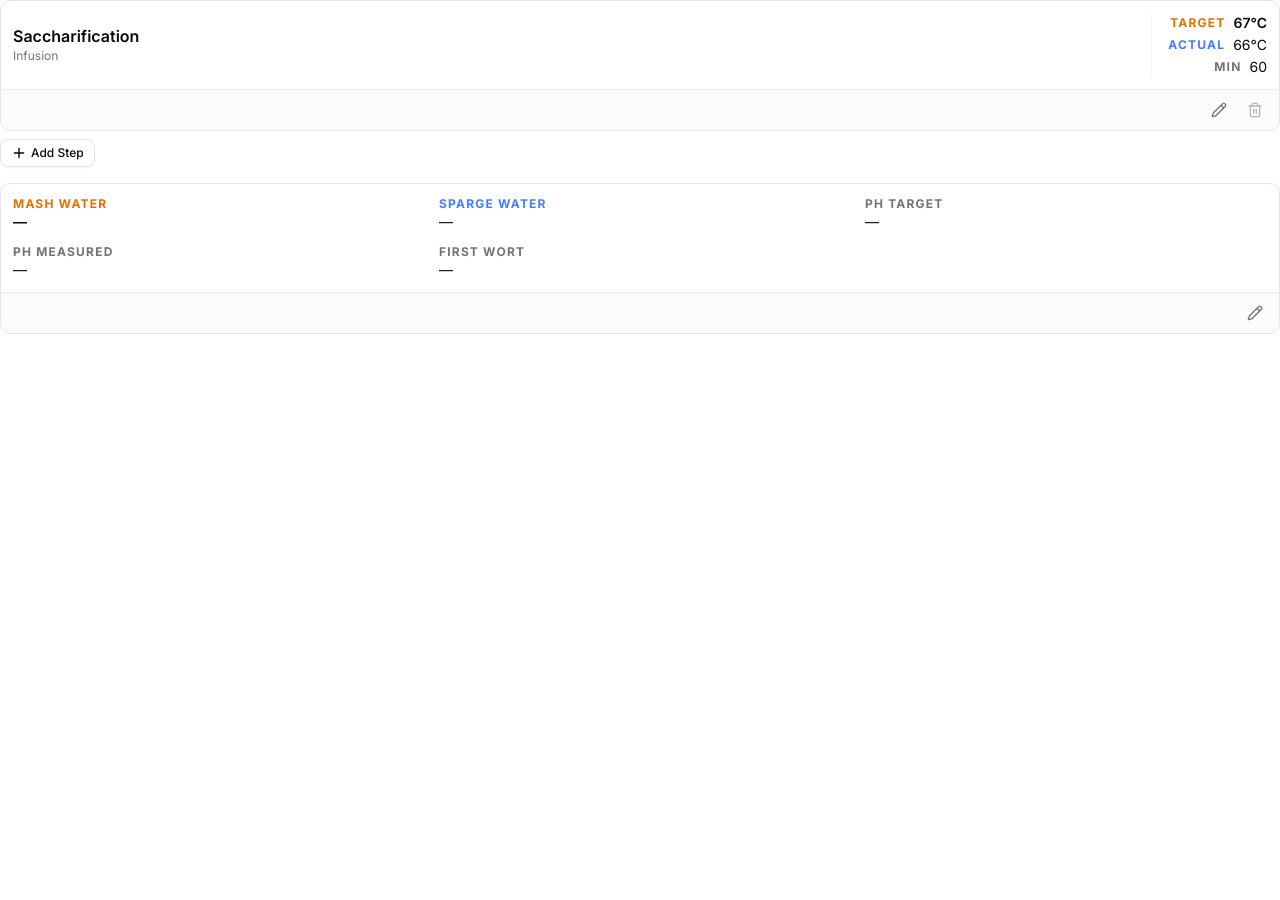
Test case: MashSection › add step flow › "Add Step" button opens the dialog with title "Add Step"
Click the button "Add Step" at (47, 153), box [0,139,95,167]
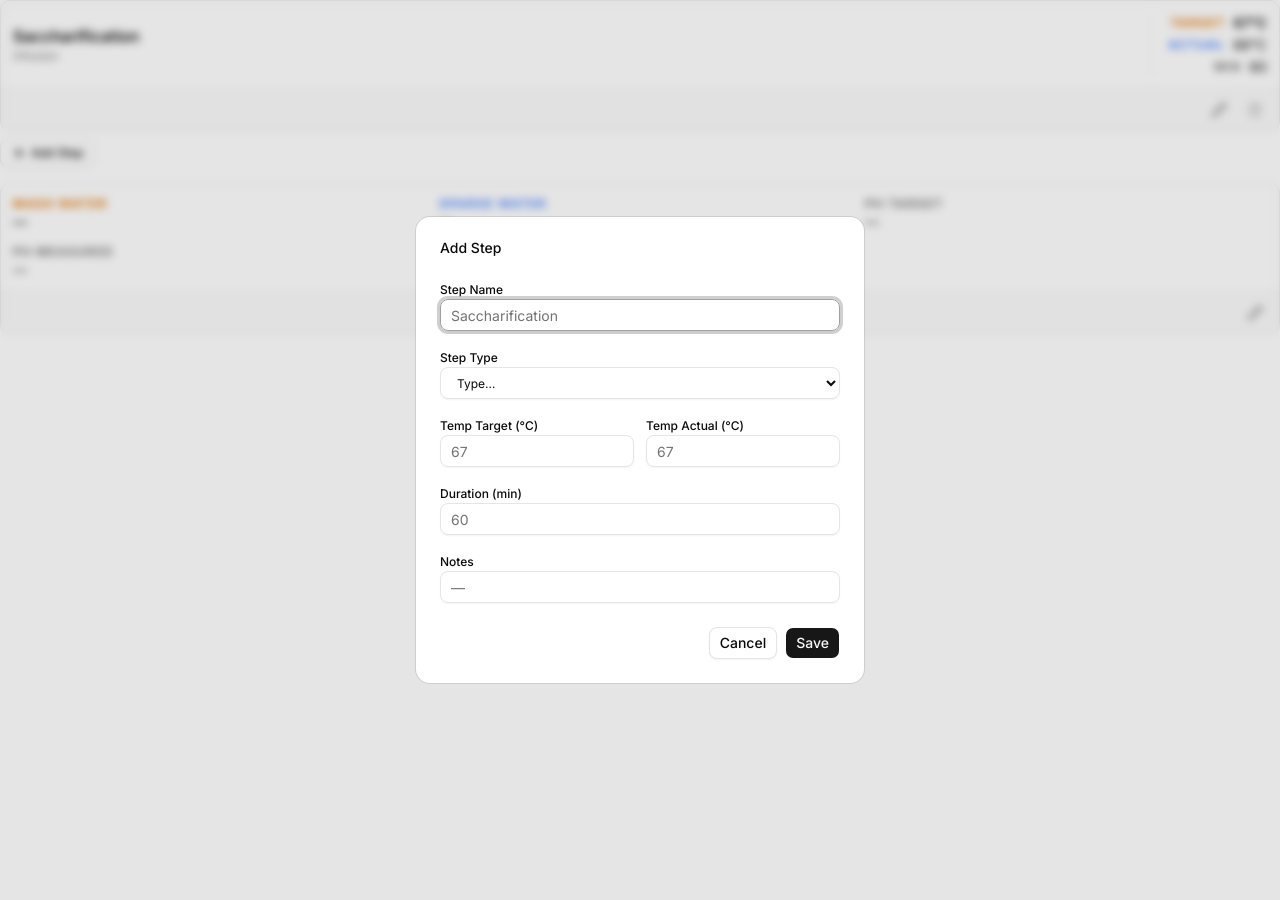
Check: the heading "Add Step" is shown, box [440,239,501,256]
